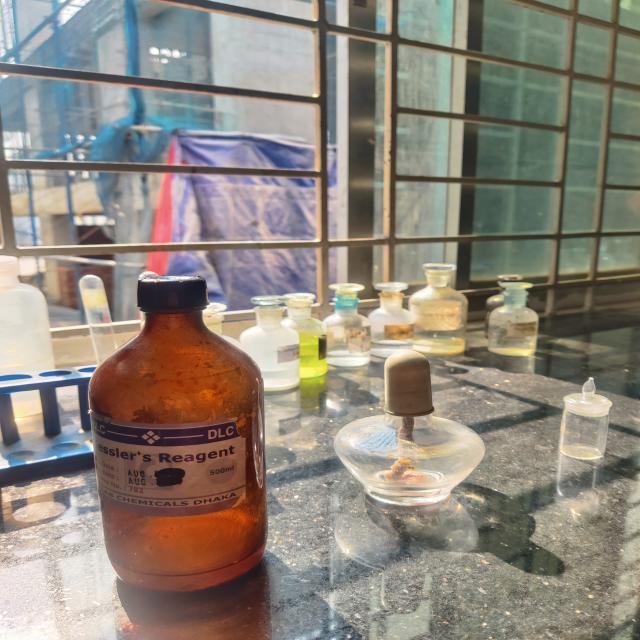Nessler_Reagent_Bottle: (73, 250, 306, 625)
Spirit_Lamp: (318, 344, 502, 527)
Weighing_Bottle: (538, 364, 638, 487)
